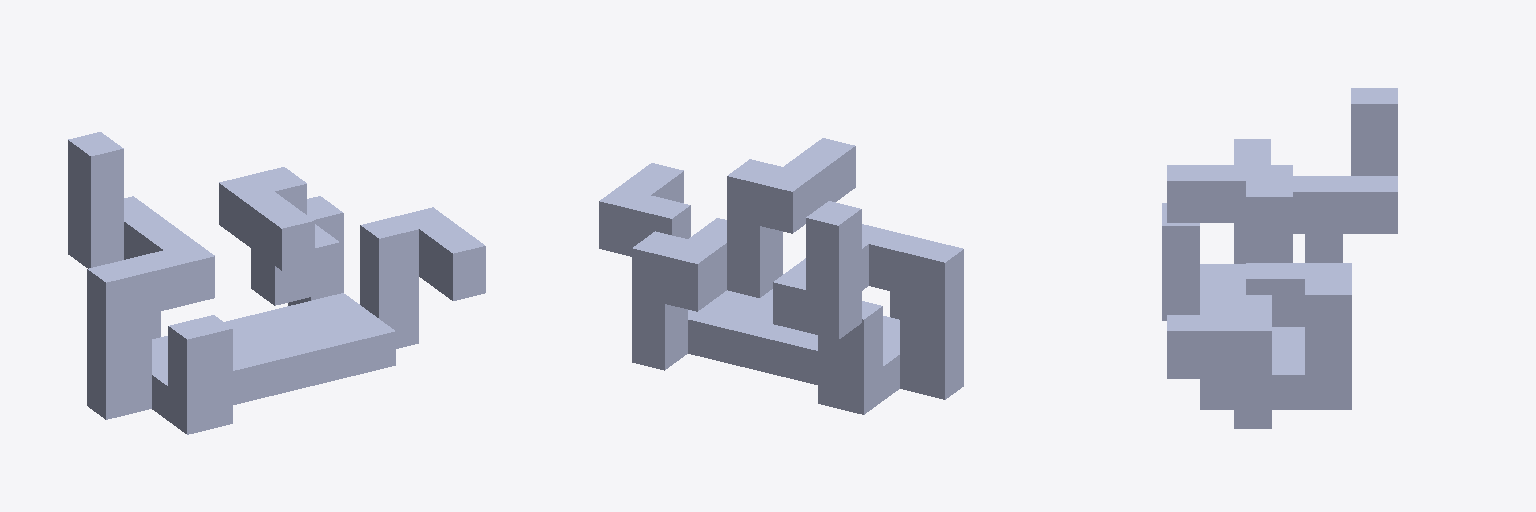
The picture shows the model from 3 angles: view 1: azimuth 30°, elevation 25°; view 2: azimuth 150°, elevation 25°; view 3: azimuth 270°, elevation 25°; orthographic projection.
Visible parts, largest first — view 1: mesh_1_Long-3.004; view 2: mesh_1_Long-3.004; view 3: mesh_1_Long-3.004.
Part boxes in pixels (left/top/right/bottom): mesh_1_Long-3.004: left=68, top=132, right=485, bottom=434; mesh_1_Long-3.004: left=599, top=138, right=963, bottom=414; mesh_1_Long-3.004: left=1162, top=88, right=1397, bottom=428.
Bounding box in the file's own units: 0.19 × 0.11 × 0.1119.